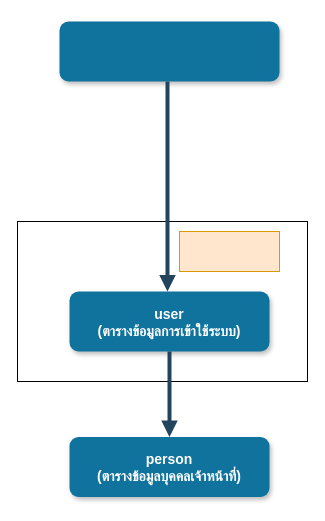
This 325x521 diagram has some shape labels left out. Each missing label, with the centre of its shape:
"bodb ฐานข้อมูล" belongs at pixel 170 52.
"Login module" belongs at pixel 229 251.
